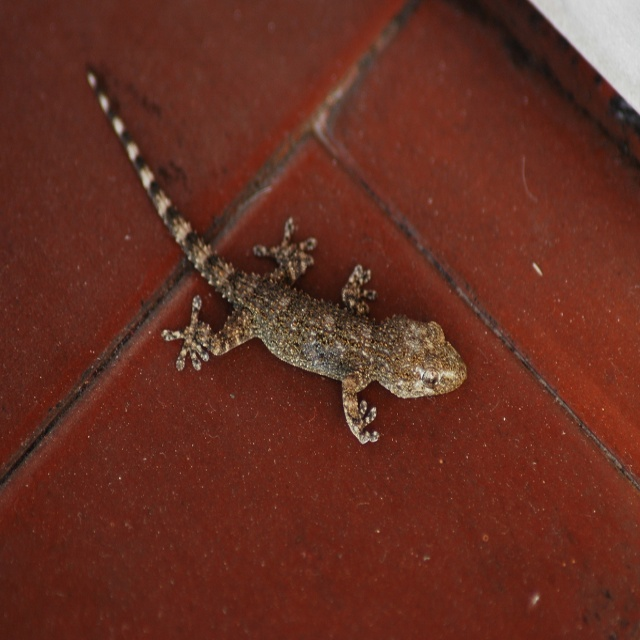Lizard: (85, 63, 468, 443)
